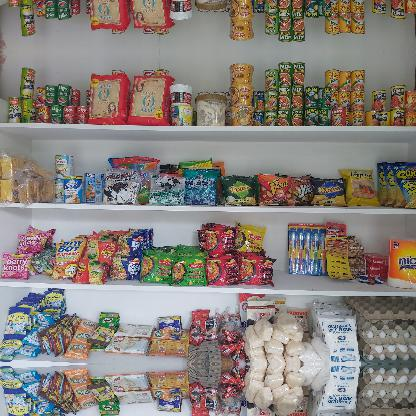Lady-s-Choice: (195, 94, 227, 126), (195, 0, 228, 11)
